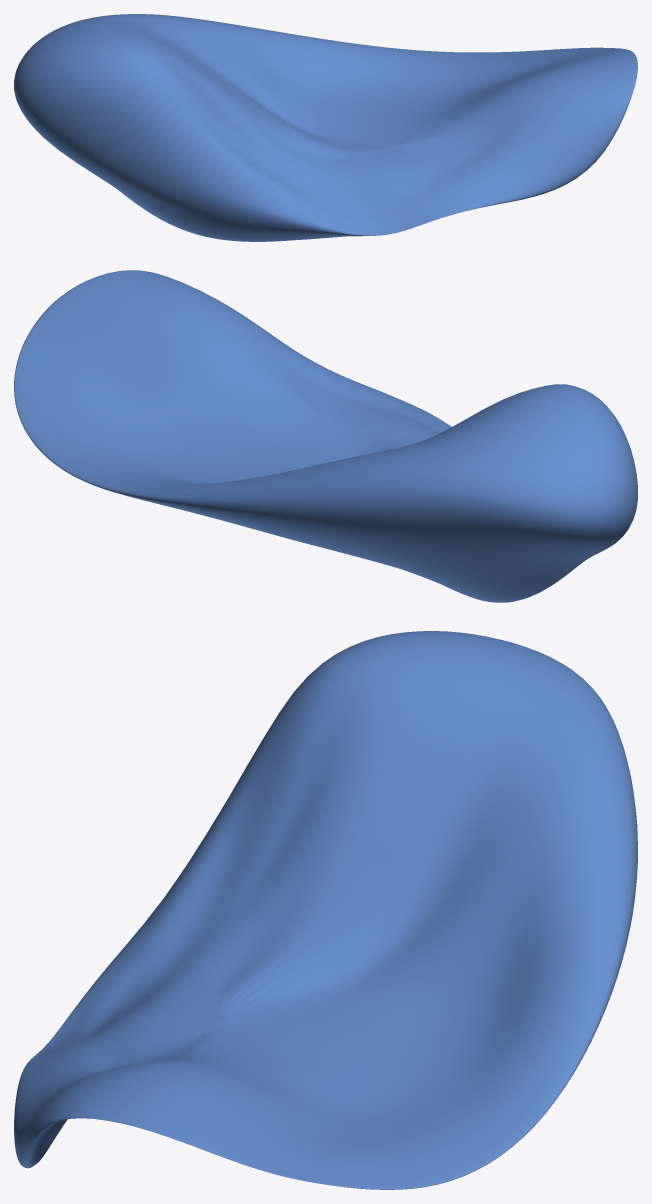
Rendered from drool.obj.
3 renders of one model, top to bottom at view 1: azimuth 30°, elevation 25°; view 2: azimuth 150°, elevation 25°; view 3: azimuth 270°, elevation 25°, orthographic. The views are drawn at different scales.
Visible parts, largest first — view 1: Sphere; view 2: Sphere; view 3: Sphere.
Part boxes in pixels (x1,y1,x2,y2): Sphere: (14, 14, 637, 241); Sphere: (14, 270, 637, 602); Sphere: (14, 631, 637, 1189).
Bounding box in the file's own units: 0.4678 × 0.1503 × 0.2816.
